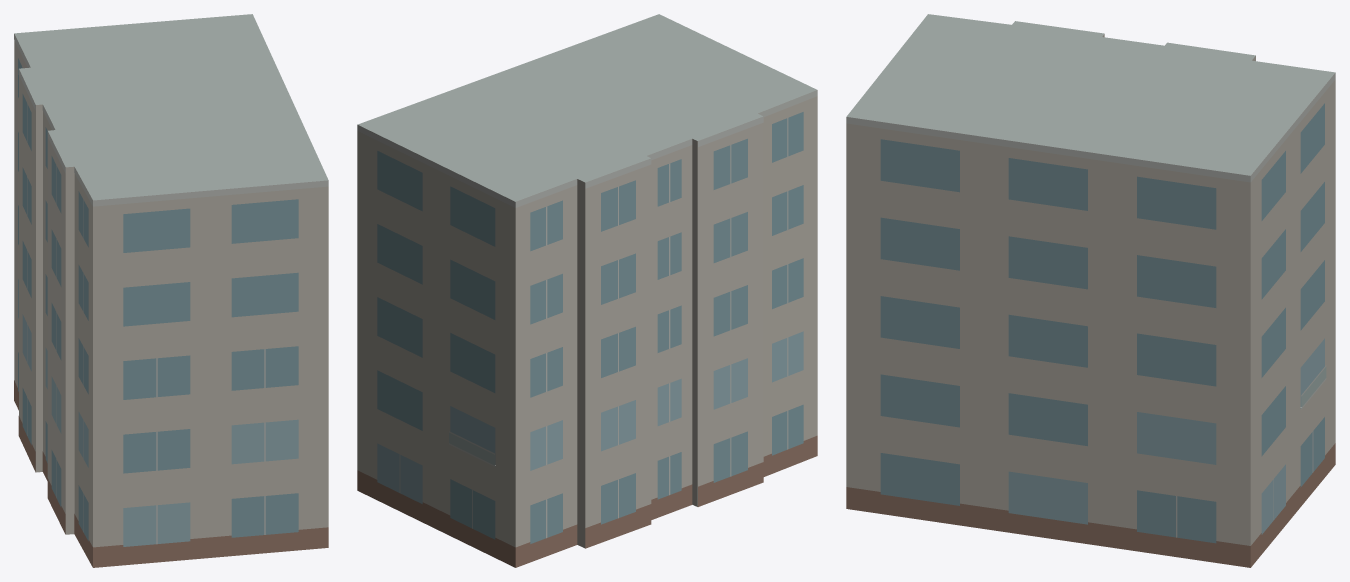
Rendered from survey-upis-32868967.glb.
The picture shows the model from 3 angles, left to right: view 1: azimuth 30°, elevation 25°; view 2: azimuth 150°, elevation 25°; view 3: azimuth 270°, elevation 25°; orthographic projection. The views are drawn at different scales.
Visible parts, largest first — view 1: survey-upis-32868967.tmp; view 2: survey-upis-32868967.tmp; view 3: survey-upis-32868967.tmp.
Part boxes in pixels (<box>): survey-upis-32868967.tmp: <box>14,14,328,567</box>; survey-upis-32868967.tmp: <box>357,14,817,567</box>; survey-upis-32868967.tmp: <box>846,14,1335,567</box>.
Size of the model in its own units: 12.8 by 14.45 by 16.36.
